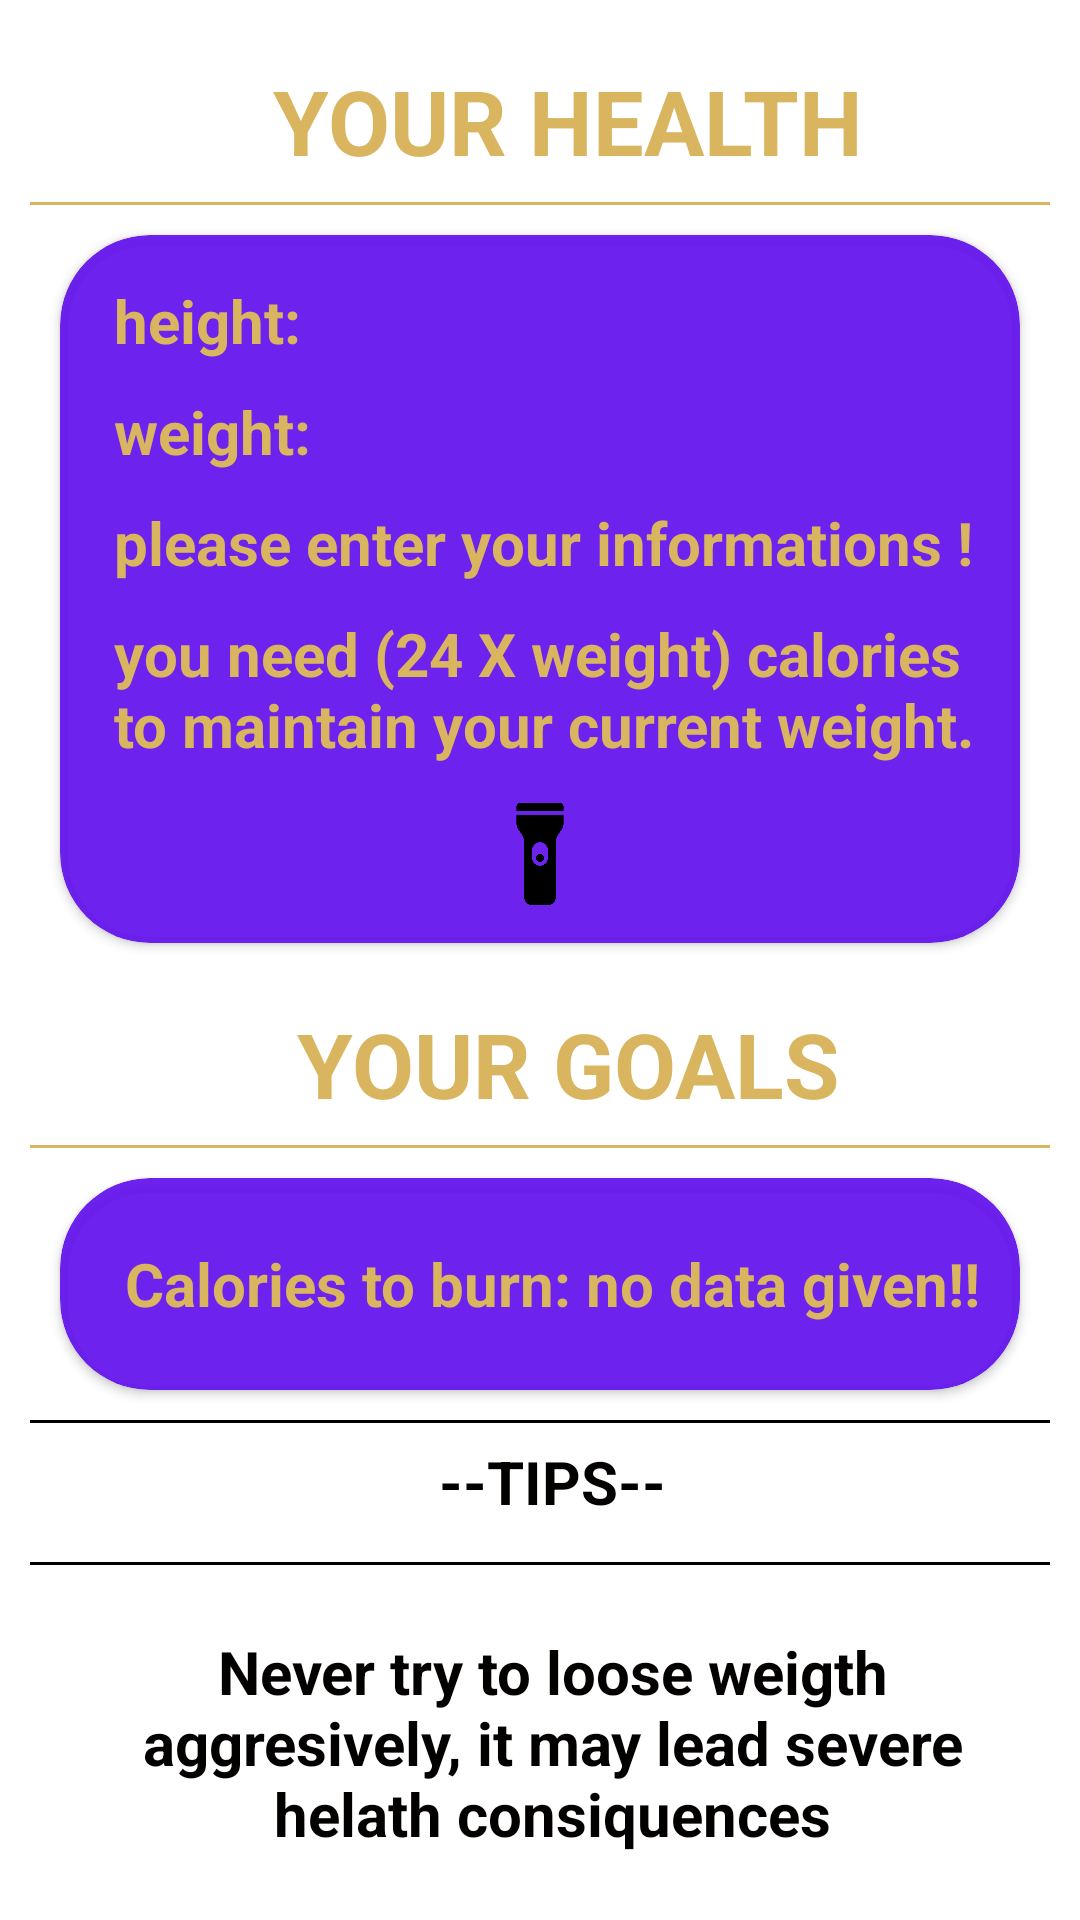

Screen size 1080x1920. Icon name, then its center in pixels as (x,y):
flash: (540,854)
